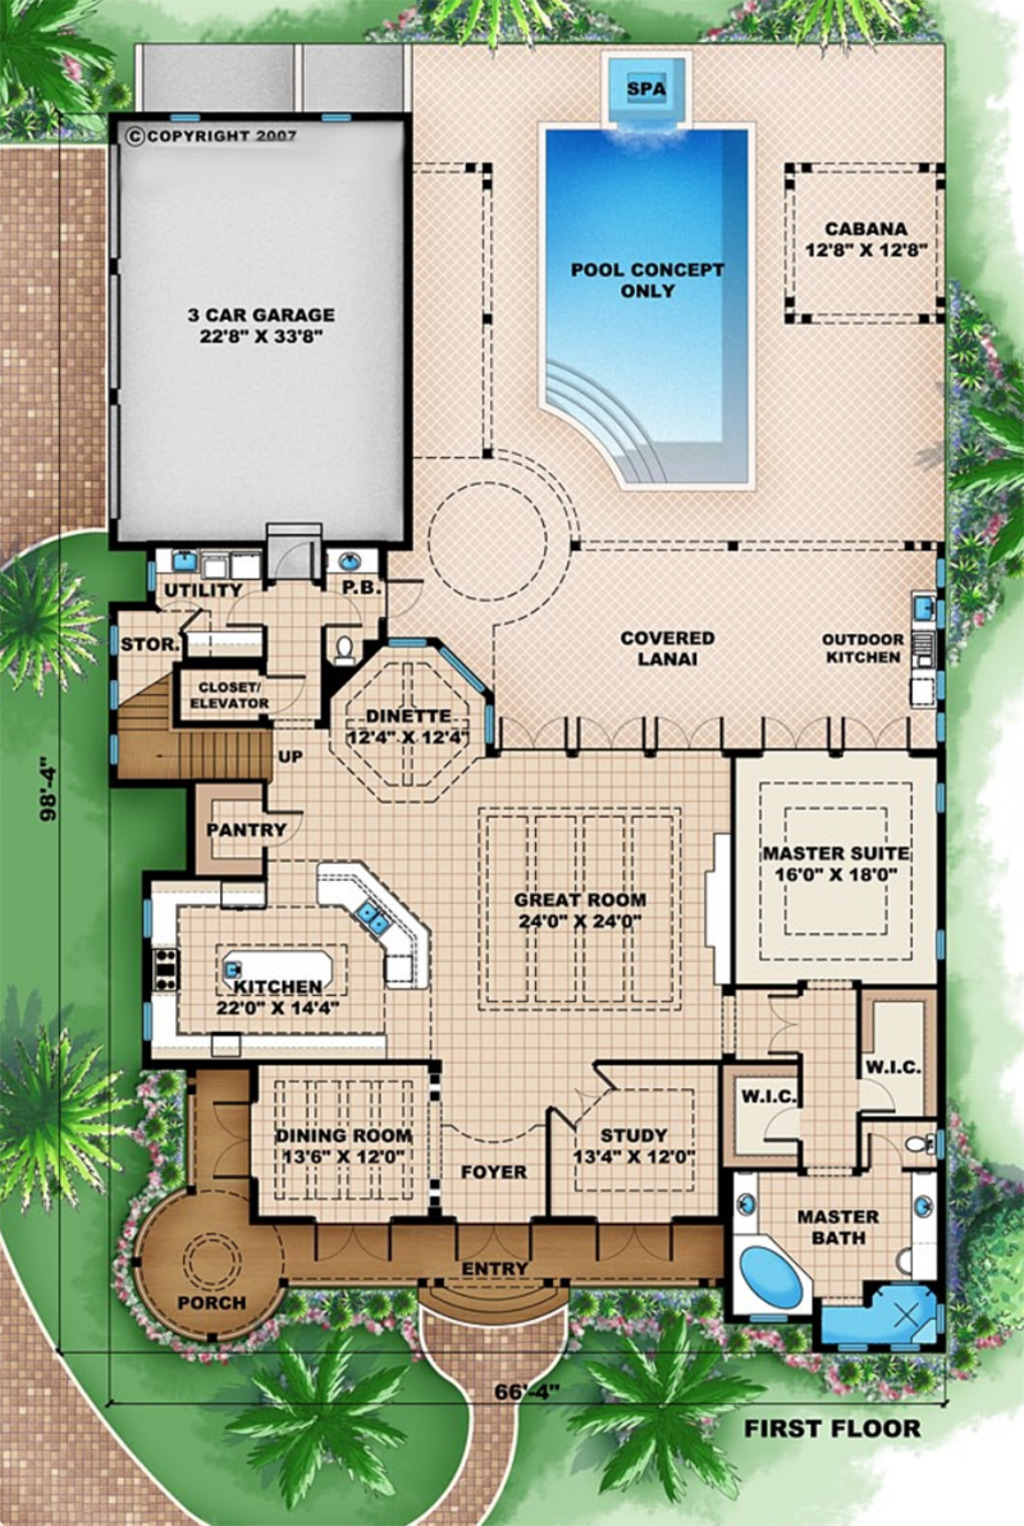door: (650, 711, 729, 761), (751, 713, 835, 758), (837, 716, 922, 756), (574, 716, 651, 759), (493, 716, 571, 756), (759, 986, 800, 1058), (384, 572, 429, 628), (266, 664, 305, 714)
kitchen_bar: (301, 858, 438, 988)
large_sink: (120, 668, 280, 786), (896, 1125, 938, 1163)
small_sink: (325, 542, 389, 577)
stairs: (113, 680, 274, 790)
tub: (731, 1237, 811, 1313)
twin_sink: (347, 901, 393, 937)
